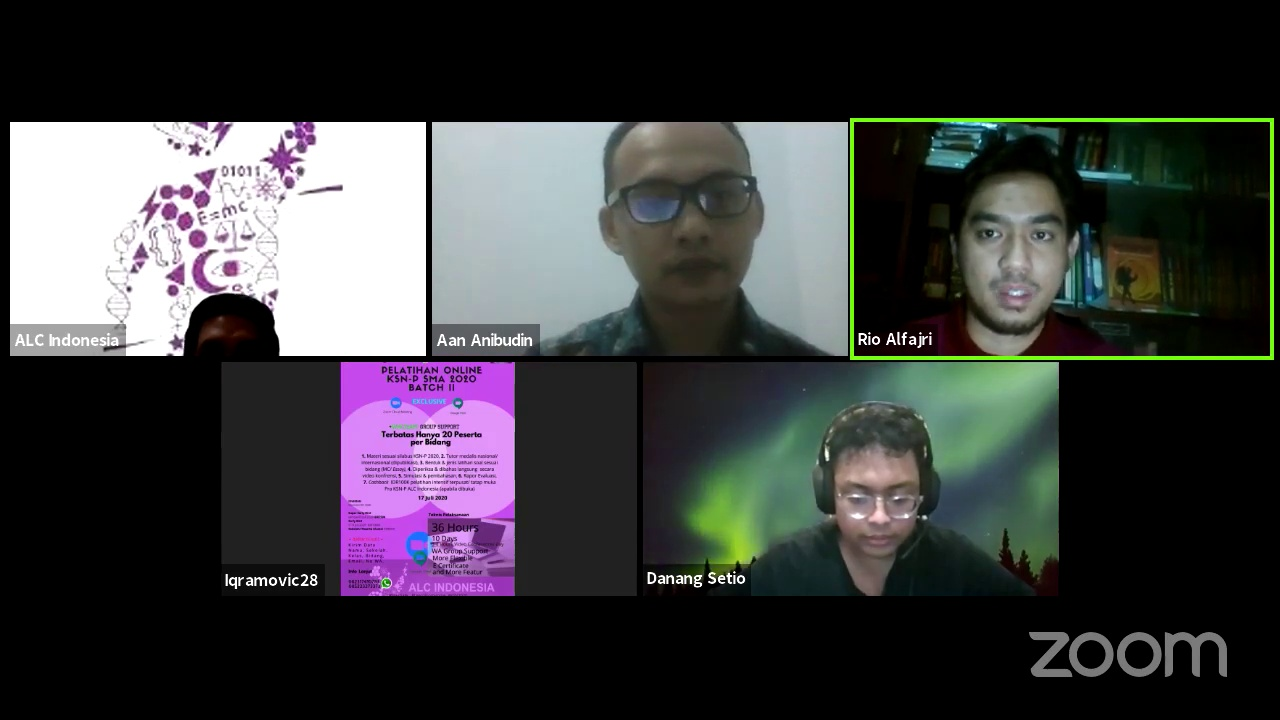Distracted: (816, 408, 949, 561)
Not Distracted: (599, 132, 776, 307), (942, 150, 1094, 332)
